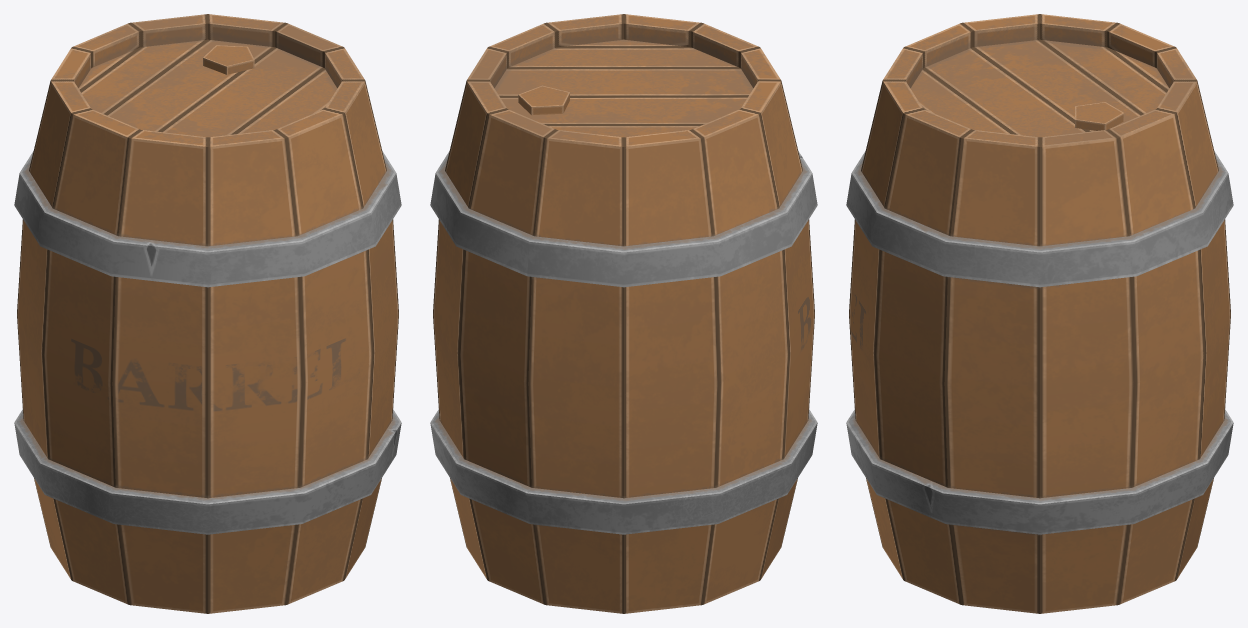
Rendered from Barrel.fbx.
3 views of the same model, side by side, from view 1: azimuth 30°, elevation 25°; view 2: azimuth 150°, elevation 25°; view 3: azimuth 270°, elevation 25° (orthographic).
Visible parts, largest first — view 1: Barrel_LOD0; view 2: Barrel_LOD0; view 3: Barrel_LOD0.
Boxes of the visible parts, x1,y1,x2,y2 form: Barrel_LOD0: [14, 14, 401, 613]; Barrel_LOD0: [430, 14, 817, 613]; Barrel_LOD0: [846, 14, 1233, 613].
Size of what is drawn, in the model's own units: 67.68 by 90 by 67.68.
